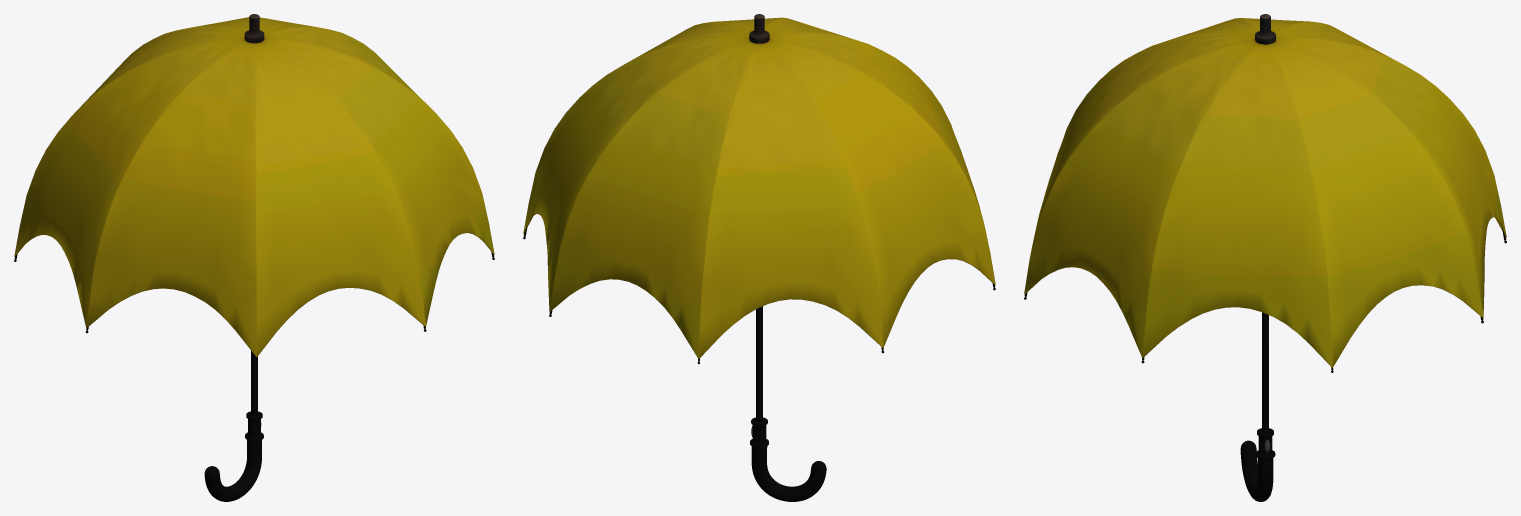
The model's file is UMBRELLA .fbx.
3 renders of one model, left to right at view 1: azimuth 30°, elevation 25°; view 2: azimuth 150°, elevation 25°; view 3: azimuth 270°, elevation 25°, orthographic. The views are drawn at different scales.
Visible parts, largest first — view 1: node_id161; view 2: node_id161; view 3: node_id161.
Boxes of the visible parts, x1,y1,x2,y2 form: node_id161: [14, 14, 494, 501]; node_id161: [523, 14, 995, 501]; node_id161: [1024, 14, 1506, 501].
Bounding box in the file's own units: 40.05 × 45.4 × 40.05.
